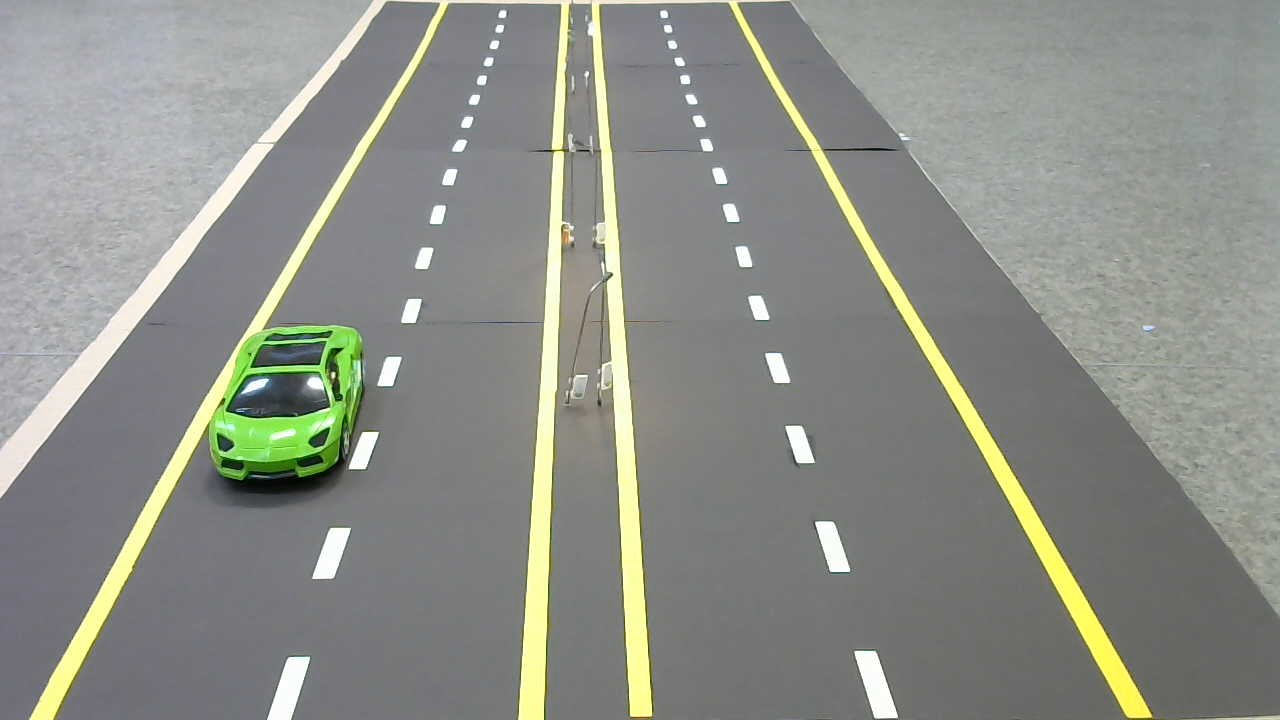front_car: (206, 321, 369, 493)
